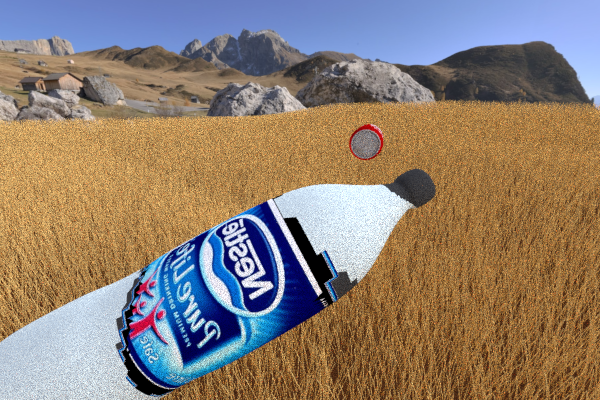Plastic Bottle: (0, 168, 435, 400), (72, 116, 126, 145), (348, 124, 383, 160)
